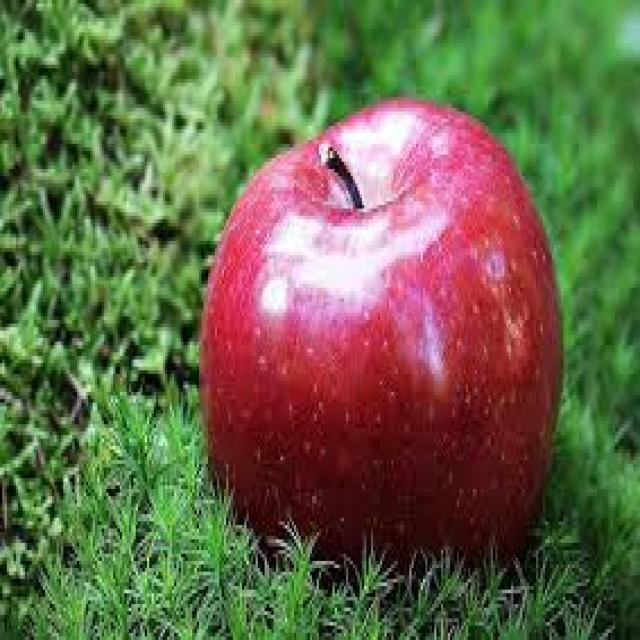apple: (197, 85, 571, 578)
